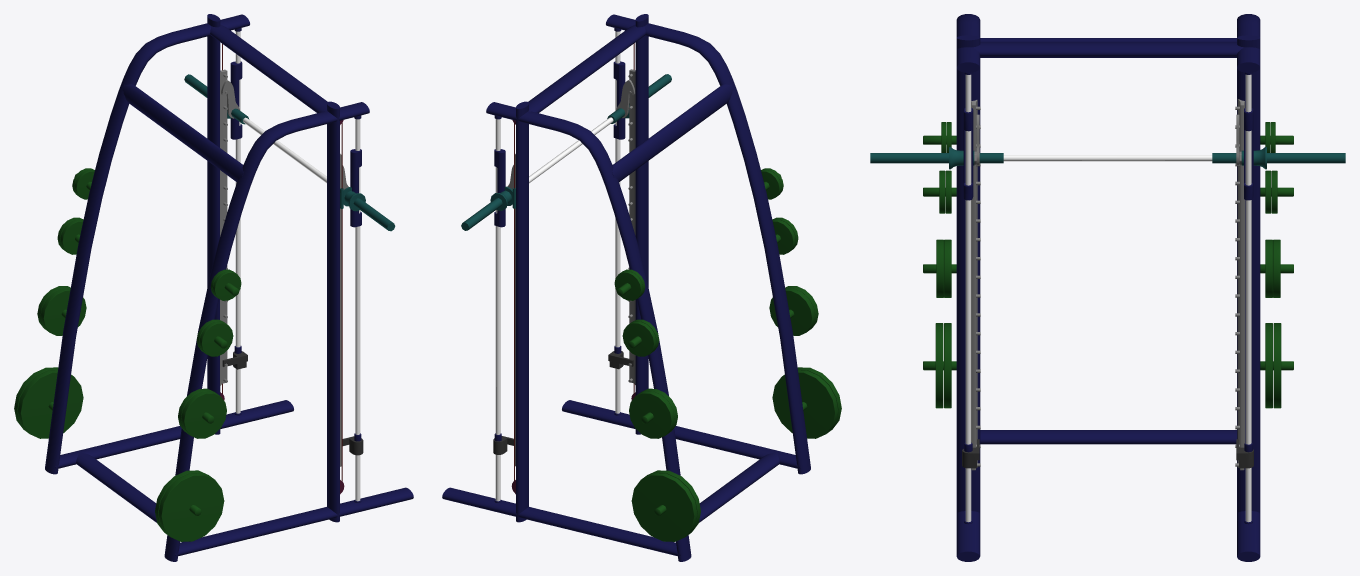
The model's file is FBX_Out_Machine02.fbx.
3 views of the same model, side by side, from view 1: azimuth 30°, elevation 25°; view 2: azimuth 150°, elevation 25°; view 3: azimuth 270°, elevation 25° (orthographic). The views are drawn at different scales.
Parts seen in each view (by area): view 1: attribcopy51; view 2: attribcopy51; view 3: attribcopy51.
Part boxes in pixels (<box>): attribcopy51: <box>14,14,413,561</box>; attribcopy51: <box>442,14,841,561</box>; attribcopy51: <box>870,14,1345,561</box>.
Size of the model in its own units: 161 by 244 by 217.
